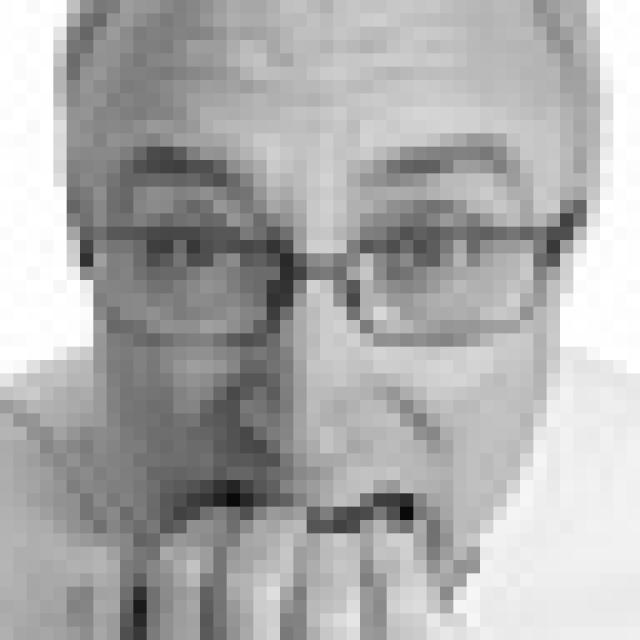fear: (105, 132, 528, 582)
